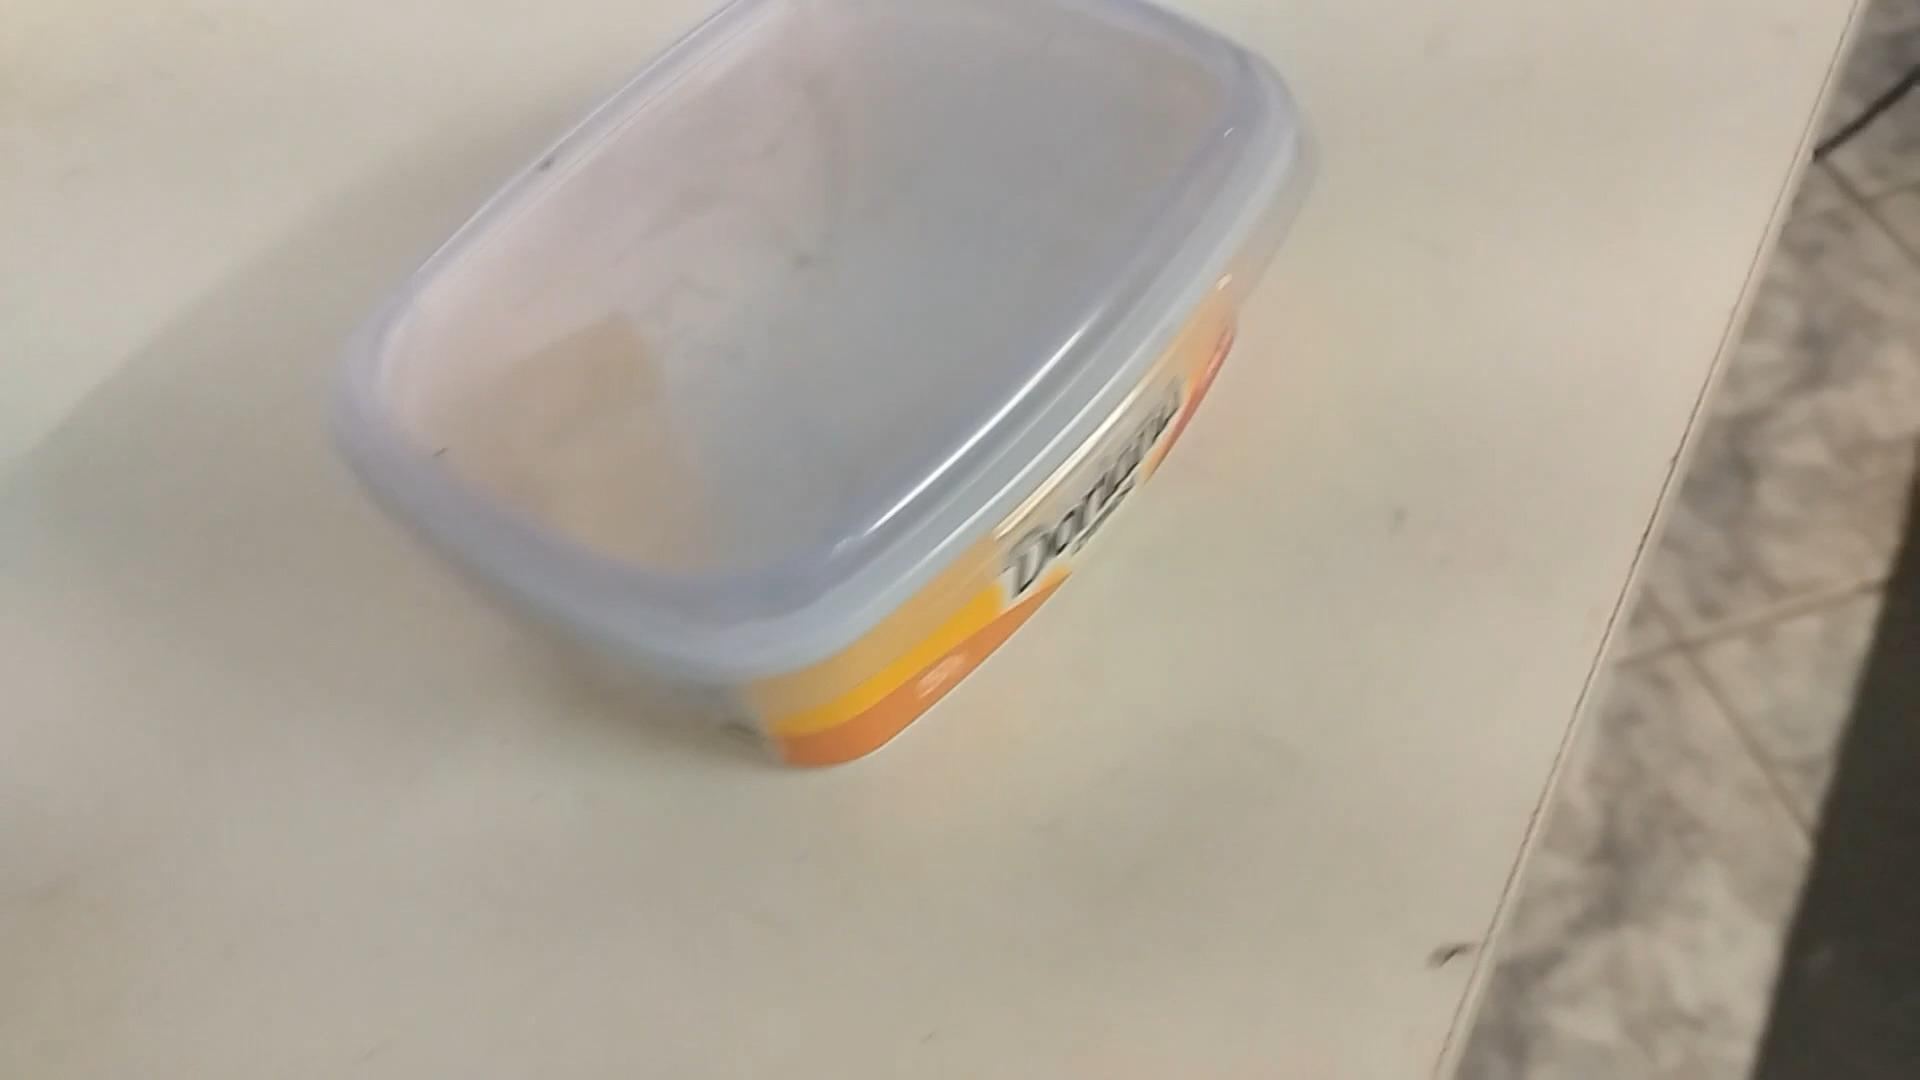butter: (326, 5, 1298, 777)
